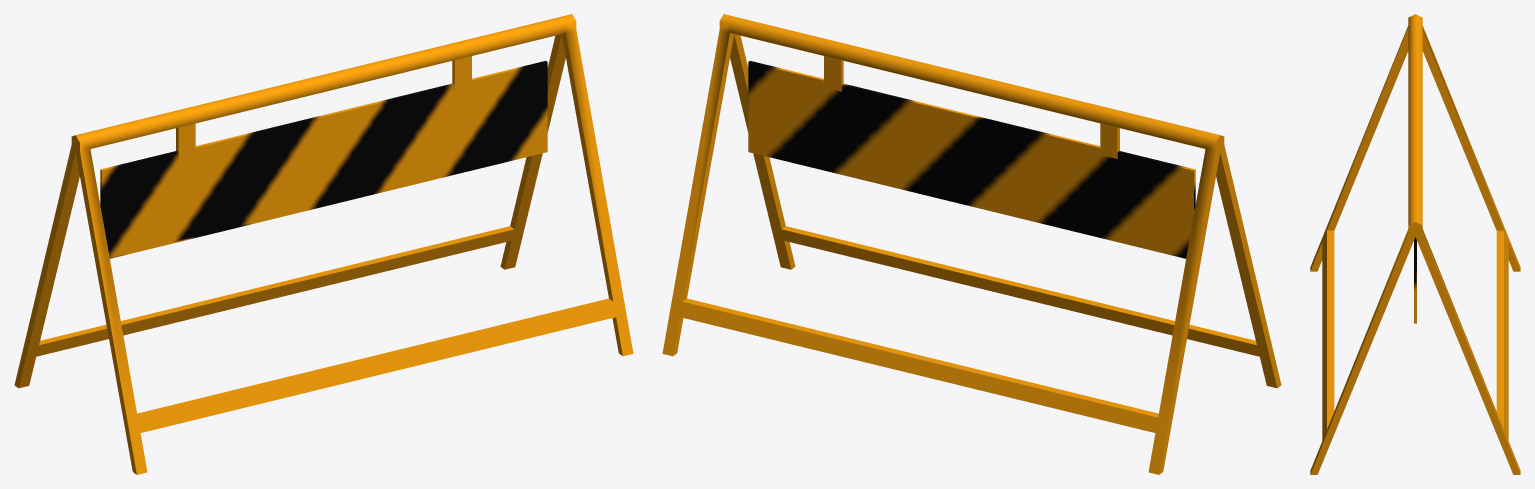
File: Barricade.fbx
3 views of the same model, side by side, from view 1: azimuth 30°, elevation 25°; view 2: azimuth 150°, elevation 25°; view 3: azimuth 270°, elevation 25° (orthographic). The views are drawn at different scales.
Parts seen in each view (by area): view 1: barricade; view 2: barricade; view 3: barricade.
Boxes of the visible parts, x1=… form: barricade: x1=14, y1=14, x2=633, y2=474; barricade: x1=662, y1=14, x2=1281, y2=474; barricade: x1=1310, y1=14, x2=1520, y2=474.
Bounding box in the file's own units: 0.0692 × 0.0393 × 0.0296.
Materials: 1 (1 with a texture image).
